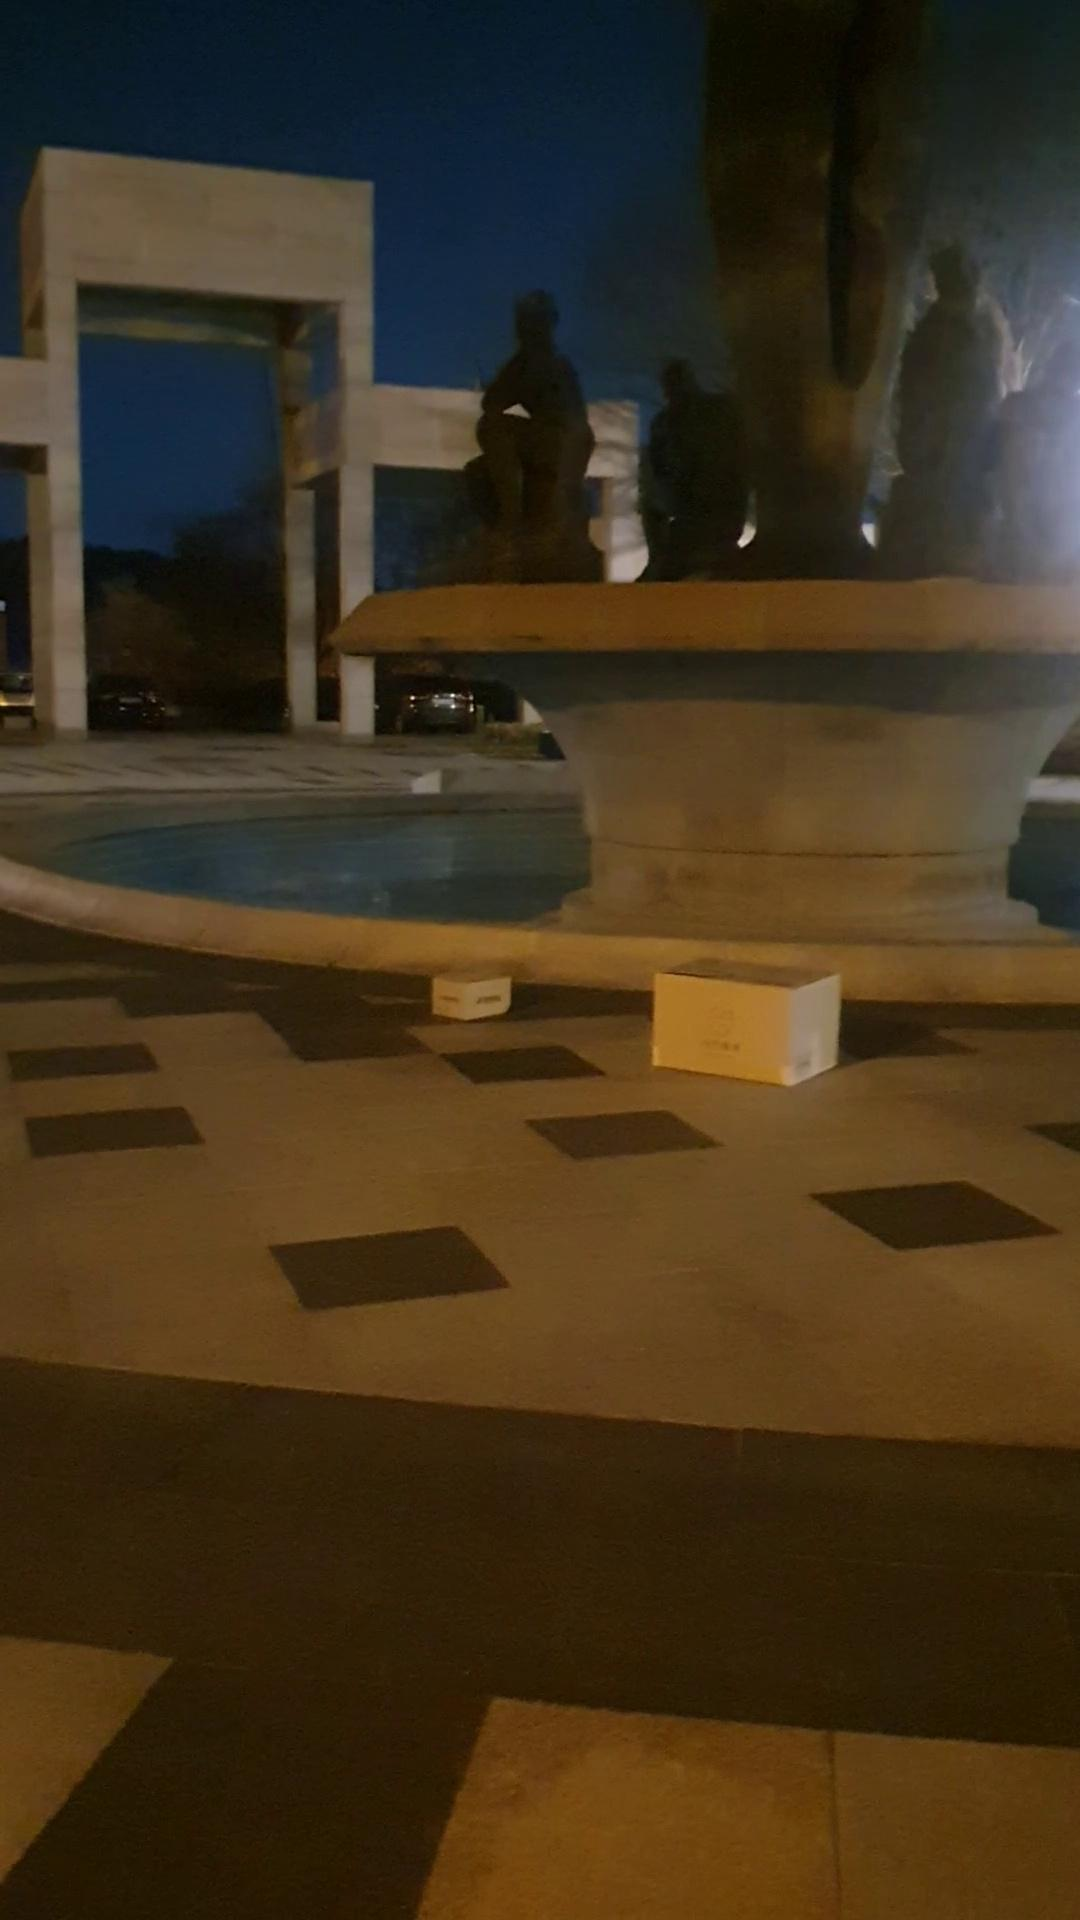Box: (423, 949, 512, 1022)
